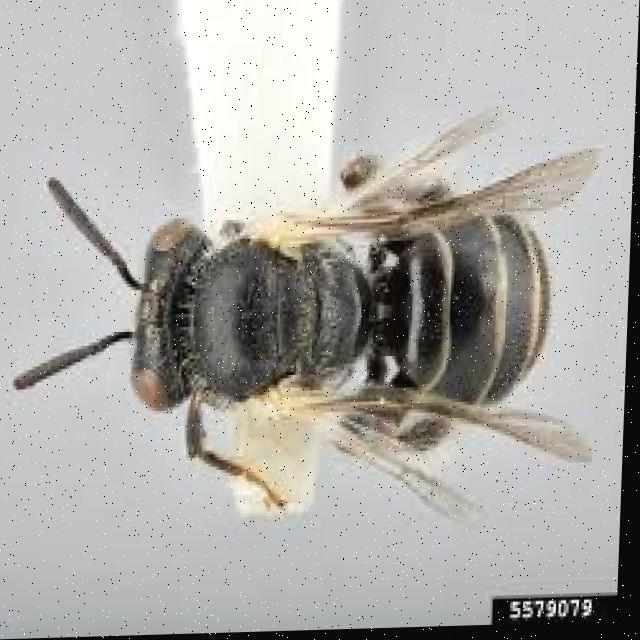Braunsapis: (9, 74, 619, 566)
